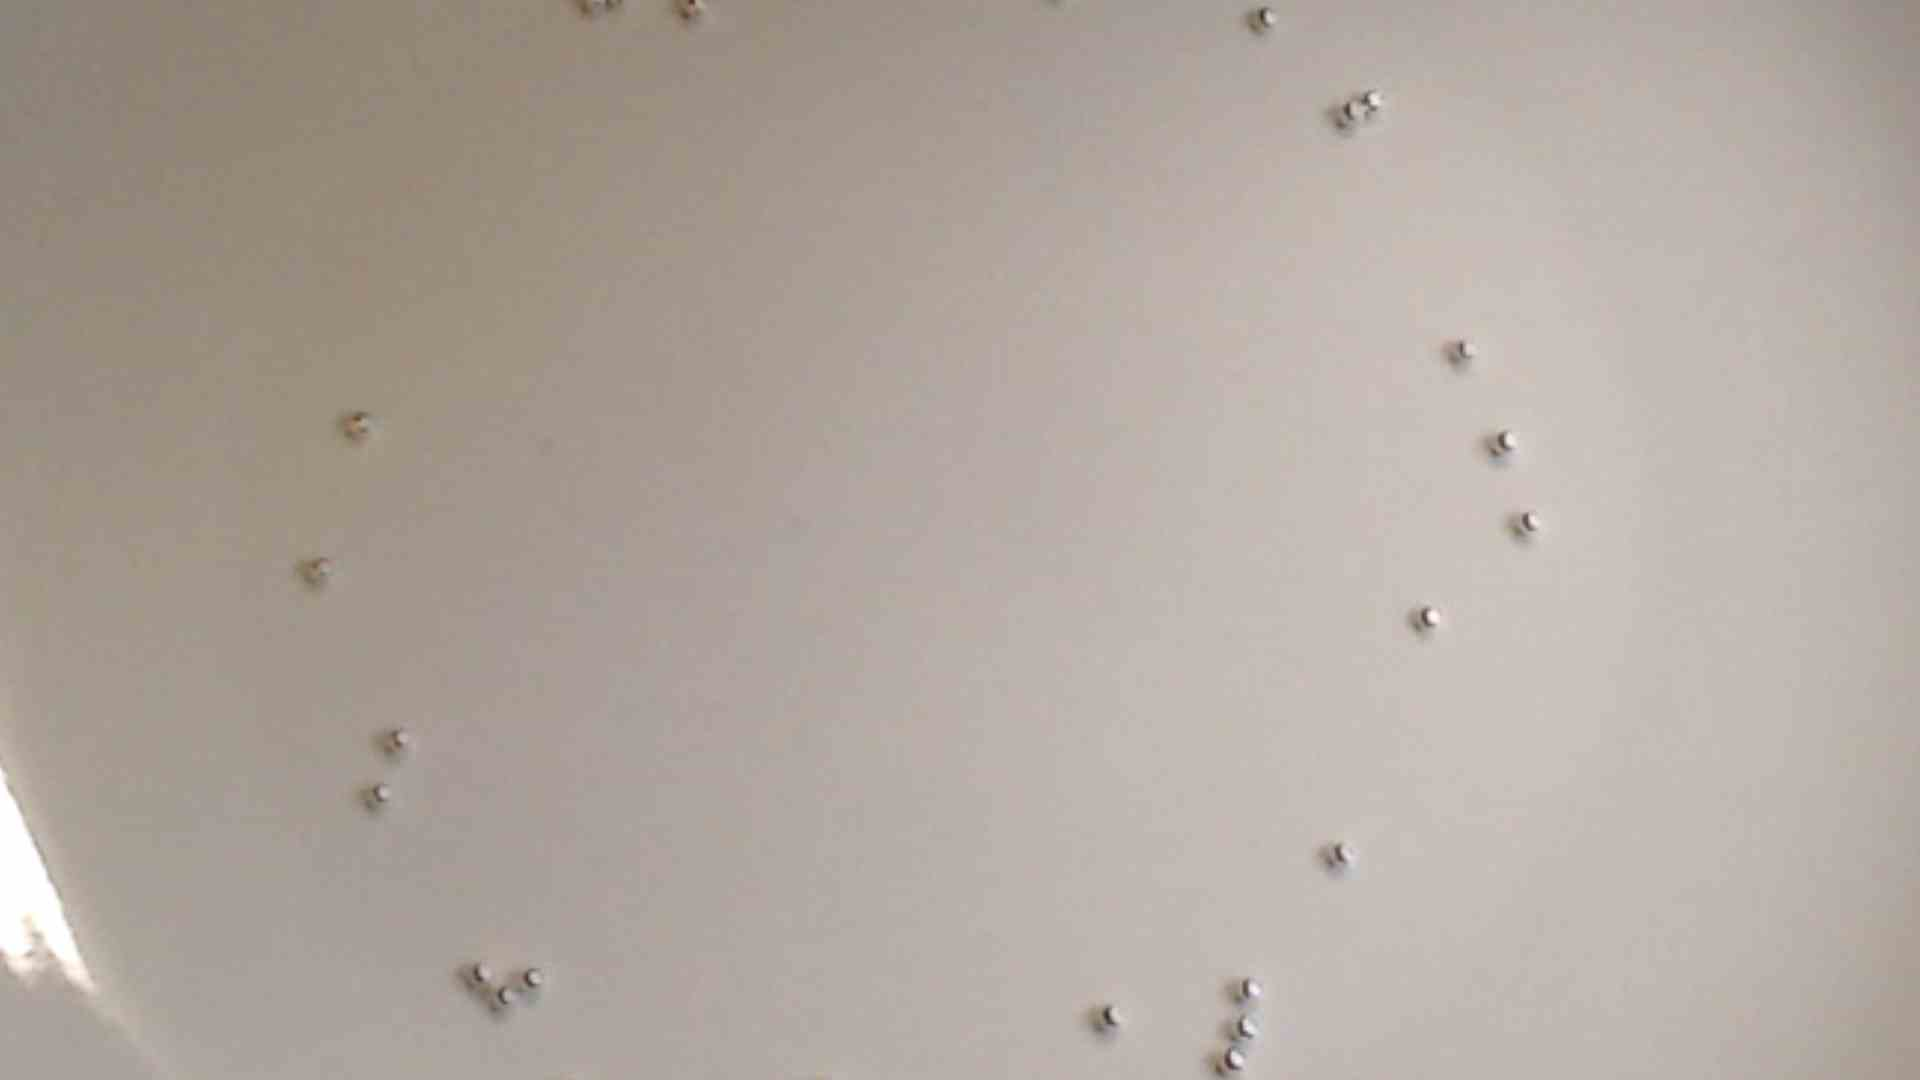chocolate: (338, 404, 380, 444), (299, 547, 339, 589), (1323, 835, 1362, 874), (1411, 593, 1452, 632), (1215, 1040, 1254, 1079), (1489, 423, 1524, 462), (1247, 1, 1286, 37), (1509, 506, 1548, 541), (1232, 1009, 1269, 1044), (1360, 82, 1394, 120), (1229, 971, 1269, 1004), (1448, 334, 1485, 368), (1335, 98, 1370, 132), (384, 727, 415, 760), (491, 985, 522, 1017), (520, 967, 553, 996), (465, 955, 495, 986), (1095, 1000, 1124, 1031), (367, 779, 396, 808), (679, 1, 705, 25), (575, 1, 601, 22)
